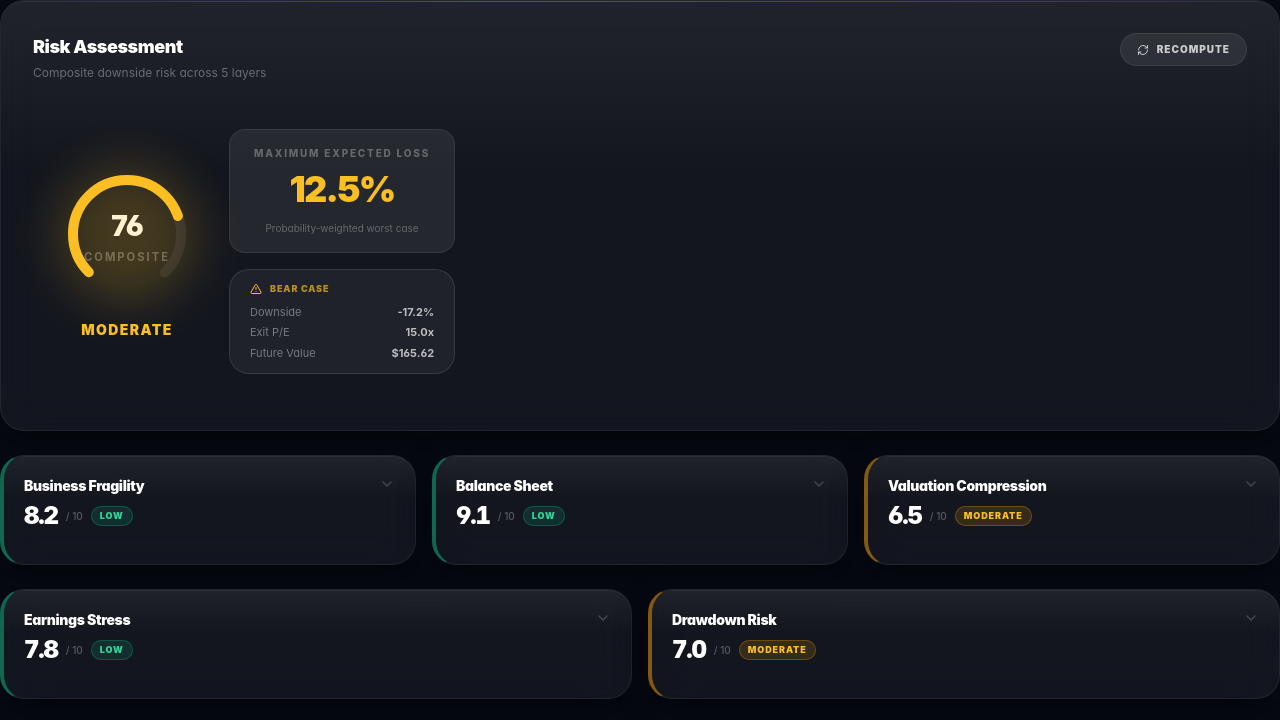
Test case: RiskPanel — UT-F1 to UT-F15 › UT-F7: Balance Sheet card shows Debt/EBITDA on expand
Click the heading "Balance Sheet" at point(510, 486), box [456,476,565,496]
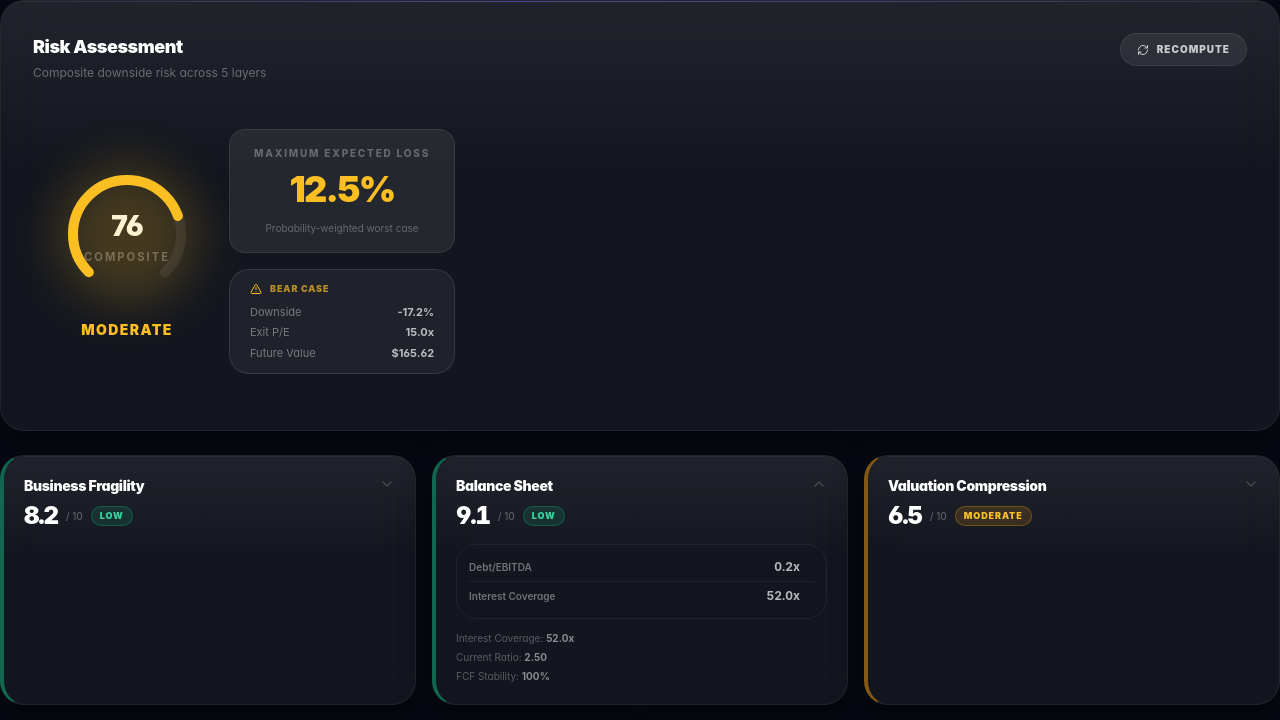
Expected: the text "0.2x" is shown, [774,559,800,575]
